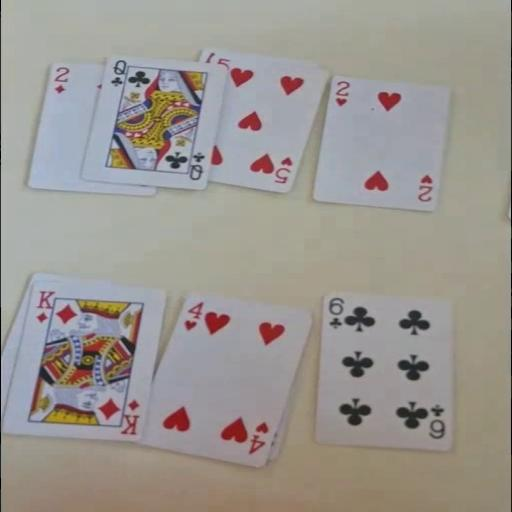2: (414, 172, 434, 202), (50, 64, 70, 94), (332, 78, 352, 108)
4: (244, 419, 270, 456), (181, 299, 205, 332)
5: (272, 154, 294, 185)
6: (426, 402, 447, 440), (326, 296, 346, 330)
K: (117, 397, 142, 436), (32, 288, 56, 324)
Q: (186, 150, 206, 182), (107, 57, 127, 87)
